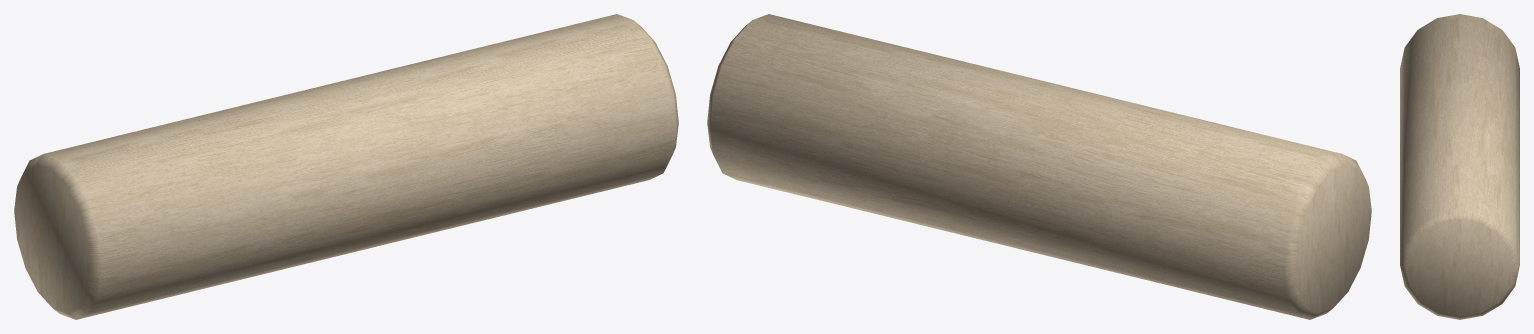
Rendered from pole.glb.
The picture shows the model from 3 angles, left to right: view 1: azimuth 30°, elevation 25°; view 2: azimuth 150°, elevation 25°; view 3: azimuth 270°, elevation 25°; orthographic projection. The views are drawn at different scales.
Parts seen in each view (by area): view 1: pole; view 2: pole; view 3: pole.
Part boxes in pixels (x1,y1,x2,y2): pole: [14, 14, 678, 319]; pole: [707, 14, 1371, 319]; pole: [1400, 14, 1519, 319].
Size of the model in its own units: 8 by 2 by 2.
Materials: 1 (1 with a texture image).
